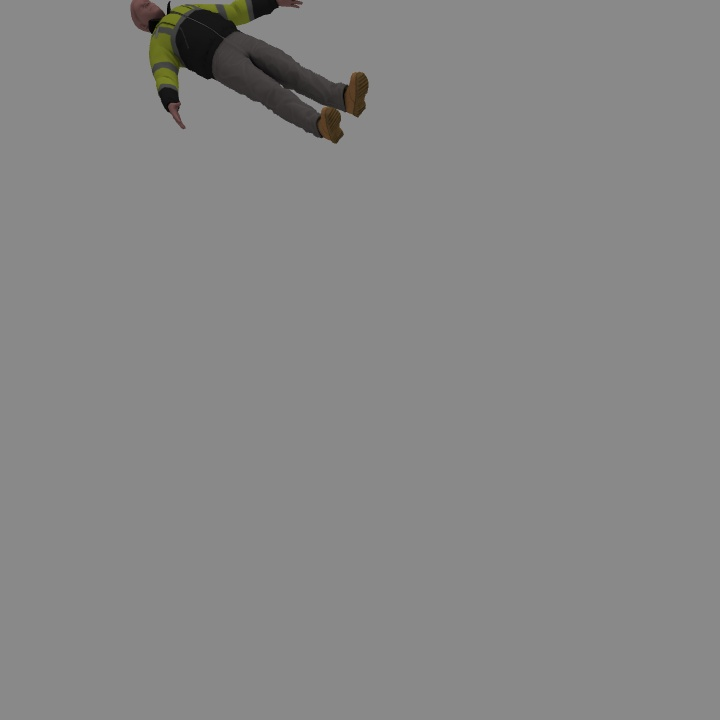victim: (132, 1, 367, 138)
